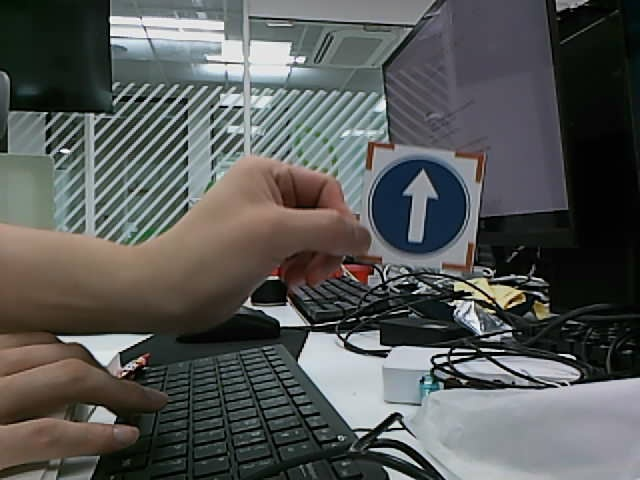go: (368, 155, 470, 258)
